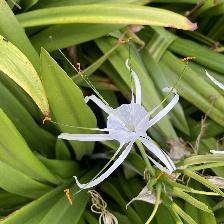spider lily: (83, 95, 183, 176)
